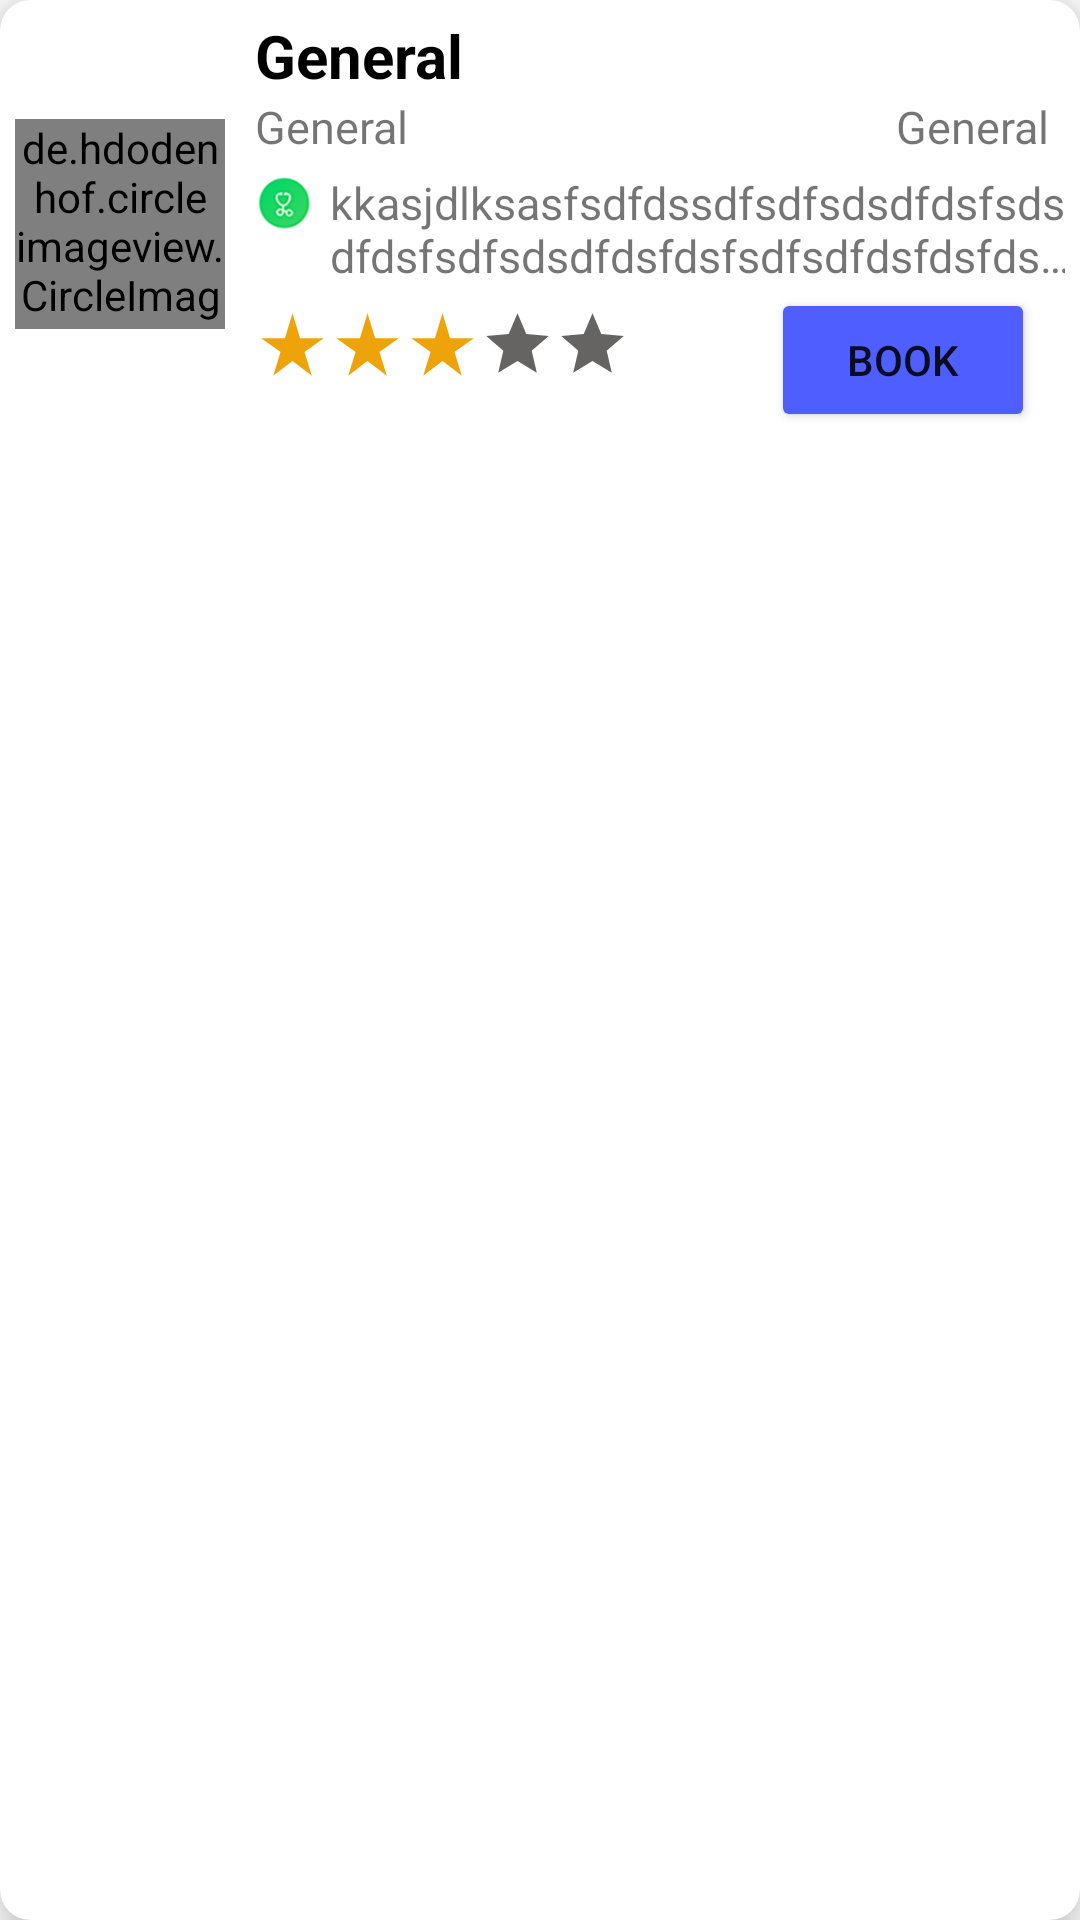

Where icons sit on this 1080 x 1920 app screen, as (x1, y1, x2, y2):
start: (261, 313, 324, 376), (336, 313, 399, 376), (411, 313, 474, 376), (486, 313, 549, 373), (561, 313, 624, 373)
